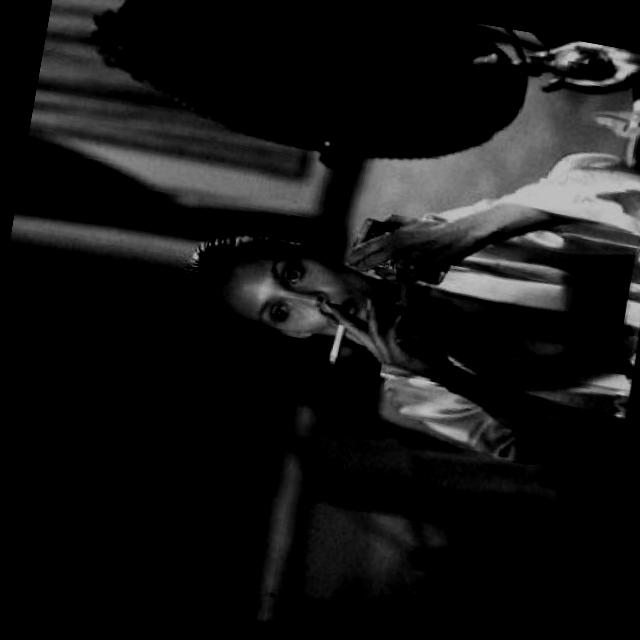cigarette: (305, 286, 428, 386)
